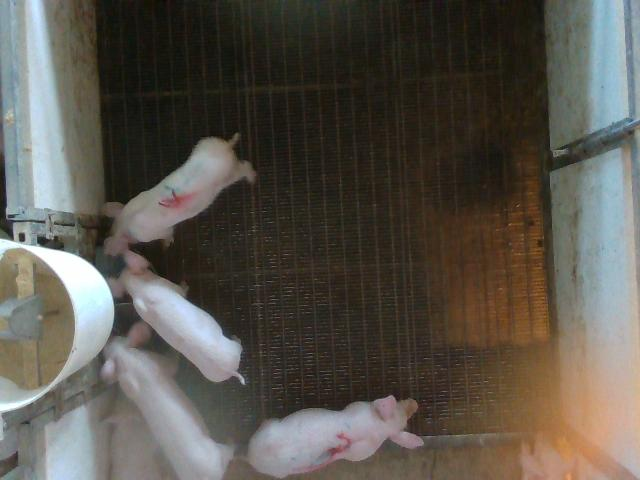pig-3: (248, 395, 422, 477)
pig-4: (105, 134, 256, 254)
